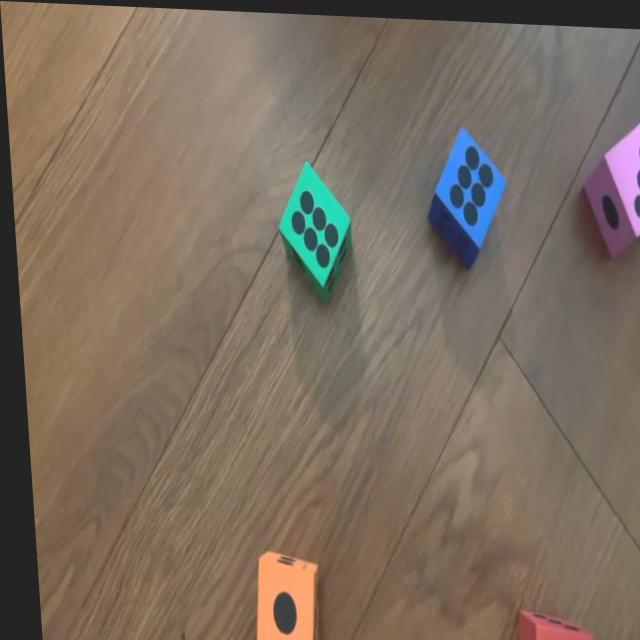blue_block: (417, 118, 511, 257)
red_block: (576, 109, 640, 247), (506, 604, 589, 640)
